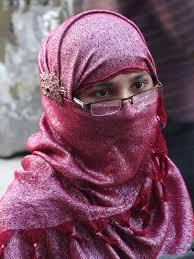scarf-kerchief: (19, 4, 189, 162)
sunglasses: (76, 82, 161, 119)
